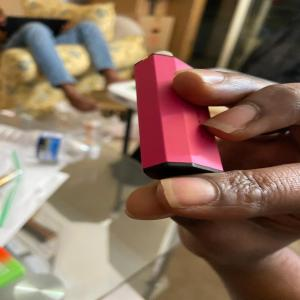Blume-E-Ciggirate: (132, 51, 214, 179)
